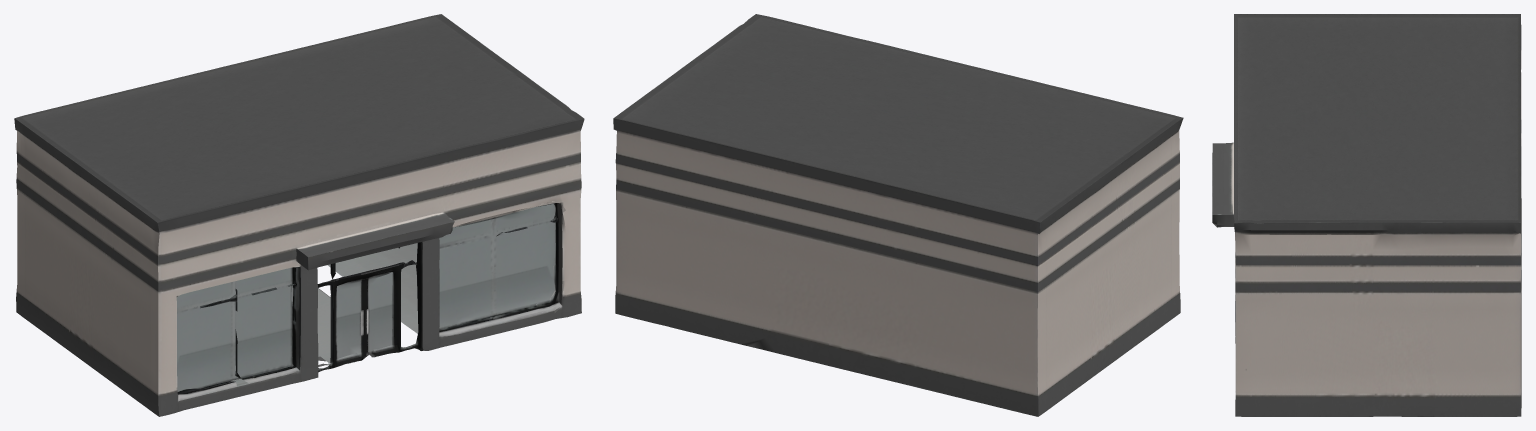
File: A07_CommercialBuilding.fbx
3 renders of one model, left to right at view 1: azimuth 30°, elevation 25°; view 2: azimuth 150°, elevation 25°; view 3: azimuth 270°, elevation 25°, orthographic.
Parts seen in each view (by area): view 1: CommercialBuilding; view 2: CommercialBuilding; view 3: CommercialBuilding.
Part boxes in pixels (left/top/right/bottom): CommercialBuilding: left=14, top=14, right=584, bottom=416; CommercialBuilding: left=613, top=14, right=1183, bottom=416; CommercialBuilding: left=1212, top=14, right=1521, bottom=416.
Size of the model in its own units: 1600 by 700 by 1000.
Materials: 1 (1 with a texture image).
